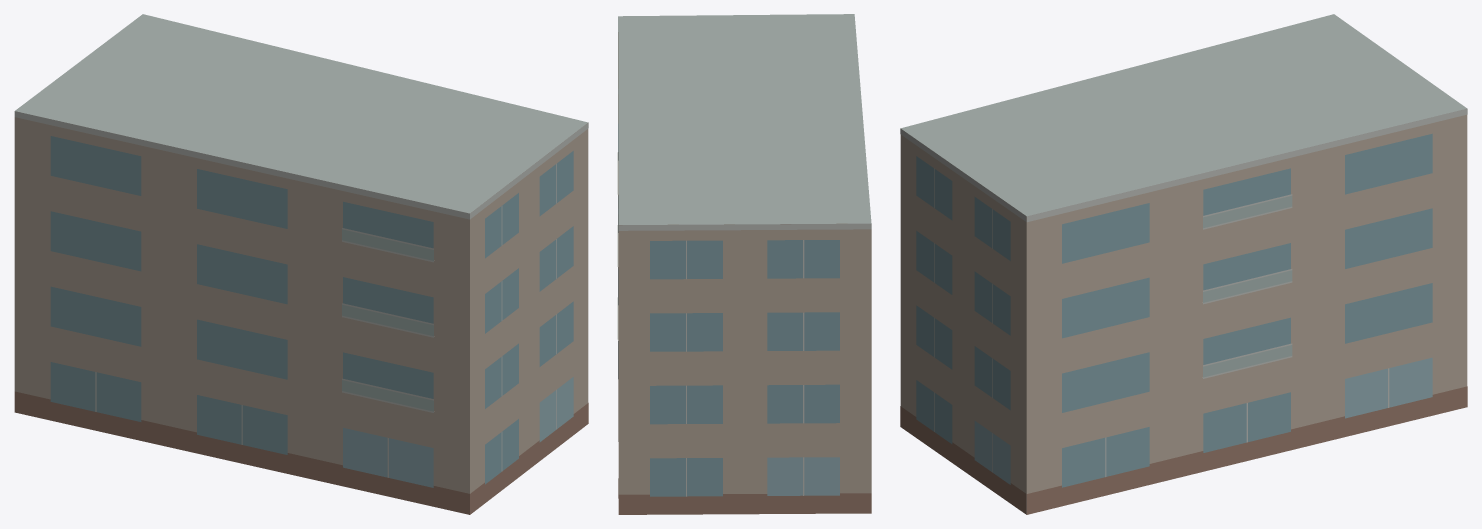
Rendered from survey-upis-33037397.glb.
The picture shows the model from 3 angles, left to right: view 1: azimuth 30°, elevation 25°; view 2: azimuth 150°, elevation 25°; view 3: azimuth 270°, elevation 25°; orthographic projection. The views are drawn at different scales.
Parts seen in each view (by area): view 1: survey-upis-33037397.tmp; view 2: survey-upis-33037397.tmp; view 3: survey-upis-33037397.tmp.
Part boxes in pixels (left/top/right/bottom): survey-upis-33037397.tmp: left=14, top=14, right=588, bottom=514; survey-upis-33037397.tmp: left=617, top=14, right=871, bottom=514; survey-upis-33037397.tmp: left=900, top=14, right=1467, bottom=514.
Bounding box in the file's own units: 17.75 × 12.2 × 21.01.
